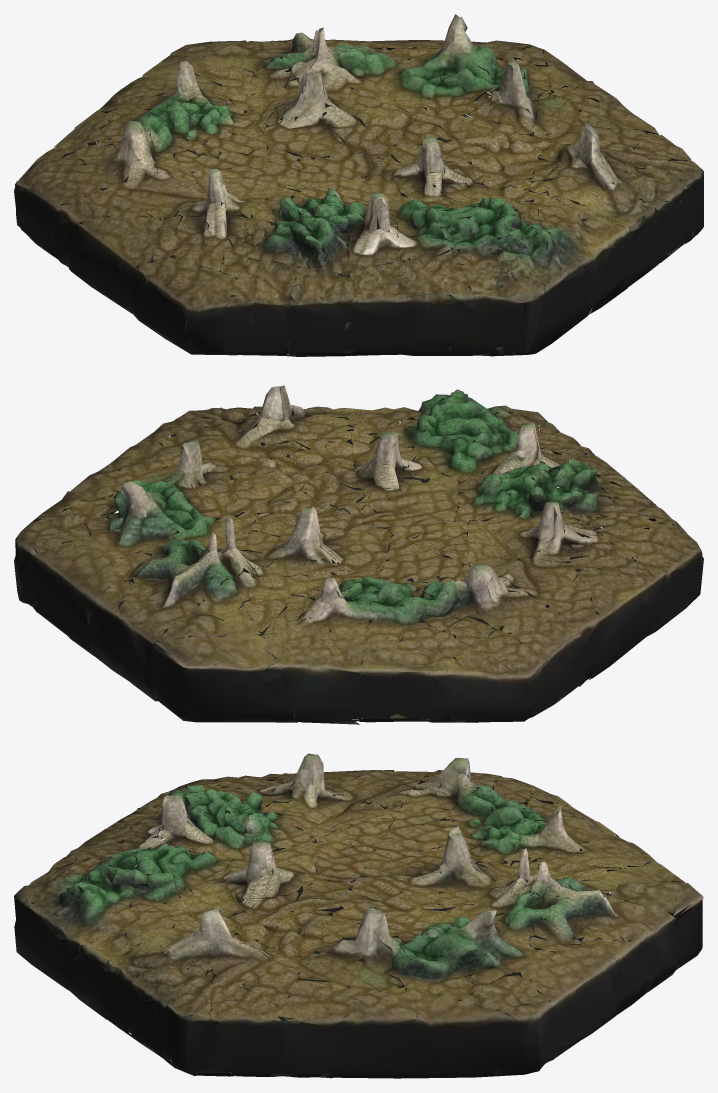
The model's file is shuriken.glb.
3 renders of one model, top to bottom at view 1: azimuth 30°, elevation 25°; view 2: azimuth 150°, elevation 25°; view 3: azimuth 270°, elevation 25°, orthographic.
Visible parts, largest first — view 1: Mesh_0; view 2: Mesh_0; view 3: Mesh_0.
Boxes of the visible parts, <box> form: Mesh_0: <box>14,14,703,356</box>; Mesh_0: <box>14,385,703,724</box>; Mesh_0: <box>14,753,703,1078</box>.
Size of the model in its own units: 1.67 by 0.3975 by 1.91.
Materials: 1 (1 with a texture image).
